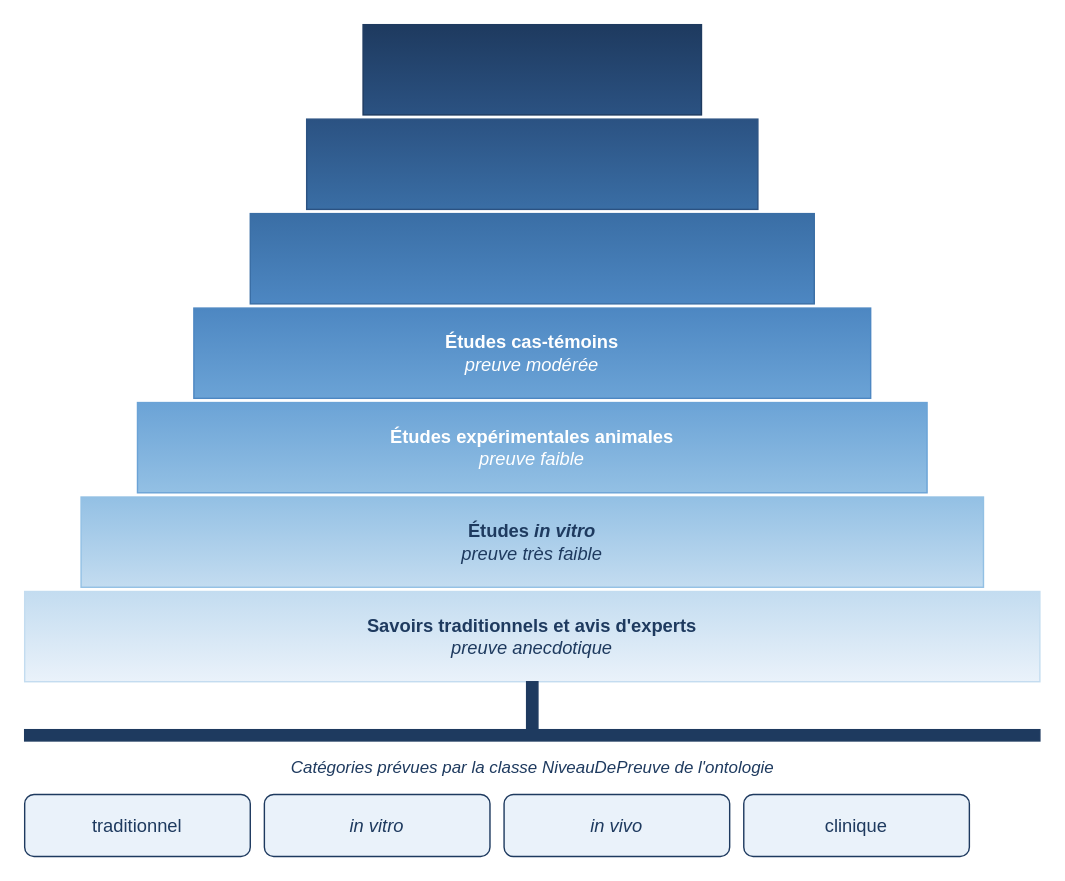
Some shapes in this 1065 by 881 pixel diagram are drawn without their labels. Here are the shapes that lost their labels. From the top down, the centre of each, then its label:
the point at 531,69: Méta-analyses et revues systématiques preuve la plus forte
the point at 531,163: Essais cliniques randomisés contrôlés preuve très forte
the point at 531,258: Études de cohorte preuve modérée
